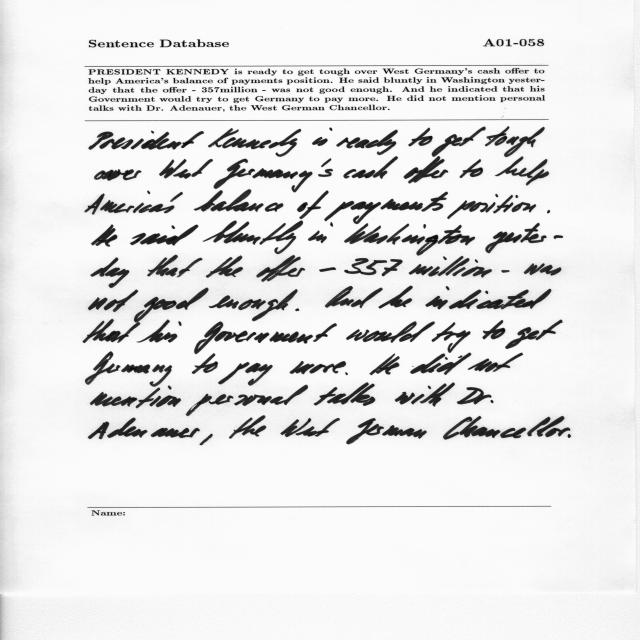word: (194, 322, 337, 354), (85, 190, 264, 215), (344, 223, 475, 256), (214, 159, 333, 193), (324, 192, 448, 224), (186, 385, 308, 416), (203, 221, 303, 254), (344, 256, 492, 278), (443, 416, 570, 440), (86, 352, 172, 387), (209, 289, 298, 322), (426, 286, 552, 309), (208, 128, 301, 157), (88, 418, 200, 439), (485, 223, 563, 253), (447, 194, 536, 219), (135, 288, 209, 318), (346, 418, 427, 445), (89, 131, 204, 150), (91, 386, 182, 409), (346, 321, 435, 343), (485, 127, 545, 157), (505, 320, 563, 349), (432, 126, 486, 157), (495, 156, 549, 186), (336, 130, 398, 155), (130, 225, 199, 246), (395, 383, 455, 407), (83, 319, 142, 343), (411, 352, 472, 375), (314, 383, 375, 406), (257, 255, 306, 282), (218, 362, 273, 386), (325, 286, 383, 308), (343, 156, 398, 179), (404, 156, 448, 184), (148, 255, 203, 277), (432, 322, 471, 353), (91, 257, 129, 288), (88, 290, 138, 313), (280, 418, 340, 437), (159, 159, 213, 179), (468, 353, 523, 372), (137, 320, 182, 343), (297, 191, 329, 219), (206, 255, 243, 278), (229, 416, 266, 439), (378, 286, 413, 309), (290, 361, 346, 374), (457, 387, 494, 405), (370, 354, 400, 376), (92, 225, 118, 247), (95, 169, 142, 181), (192, 353, 218, 374), (308, 222, 333, 243), (524, 263, 561, 276), (408, 128, 433, 147), (460, 159, 483, 178), (483, 320, 506, 339), (312, 128, 333, 146), (265, 203, 283, 212), (200, 434, 213, 445), (319, 267, 336, 272), (501, 270, 510, 273), (295, 308, 299, 311), (568, 434, 571, 438), (547, 210, 550, 213), (345, 372, 348, 375)
